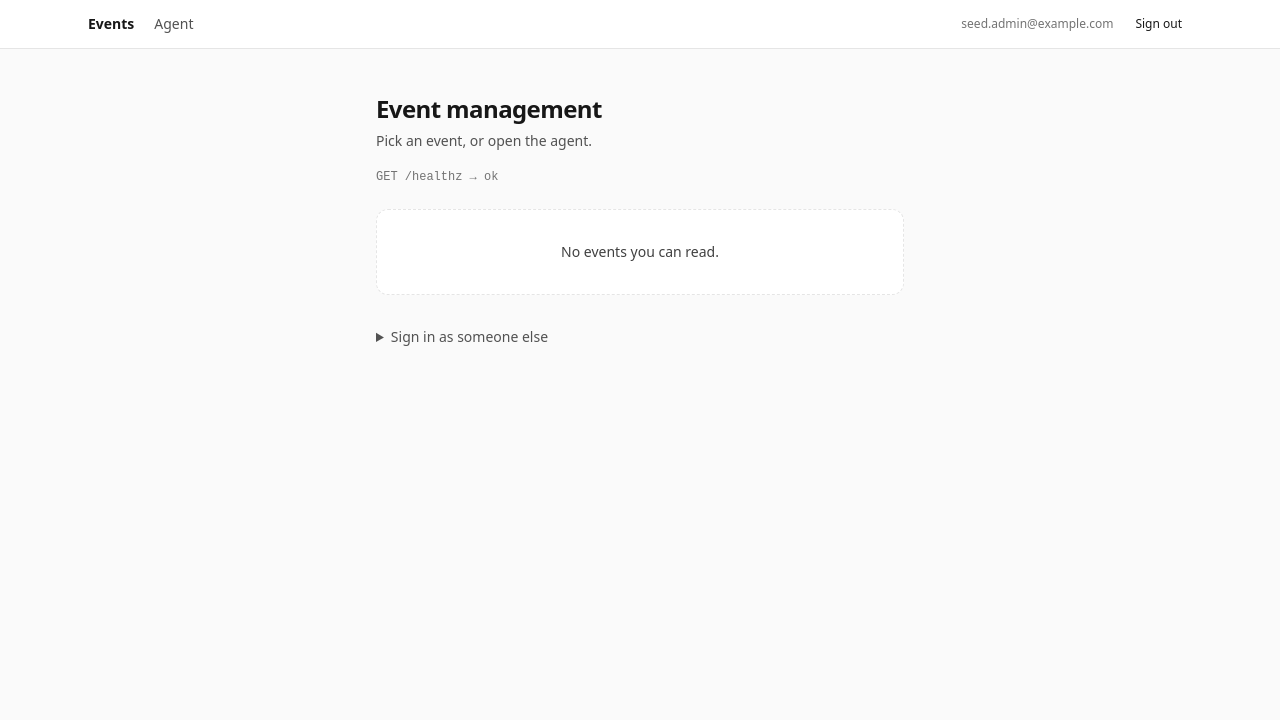
Scenario: auth session › signs out the current session before signing in as someone else
The width and height of the screenshot is (1280, 720).
Expected: the text "seed.admin@example.com" is shown, [961,16,1113,32]
Click the heading "Sign in as someone else" at [469, 336], box [391,327,548,346]
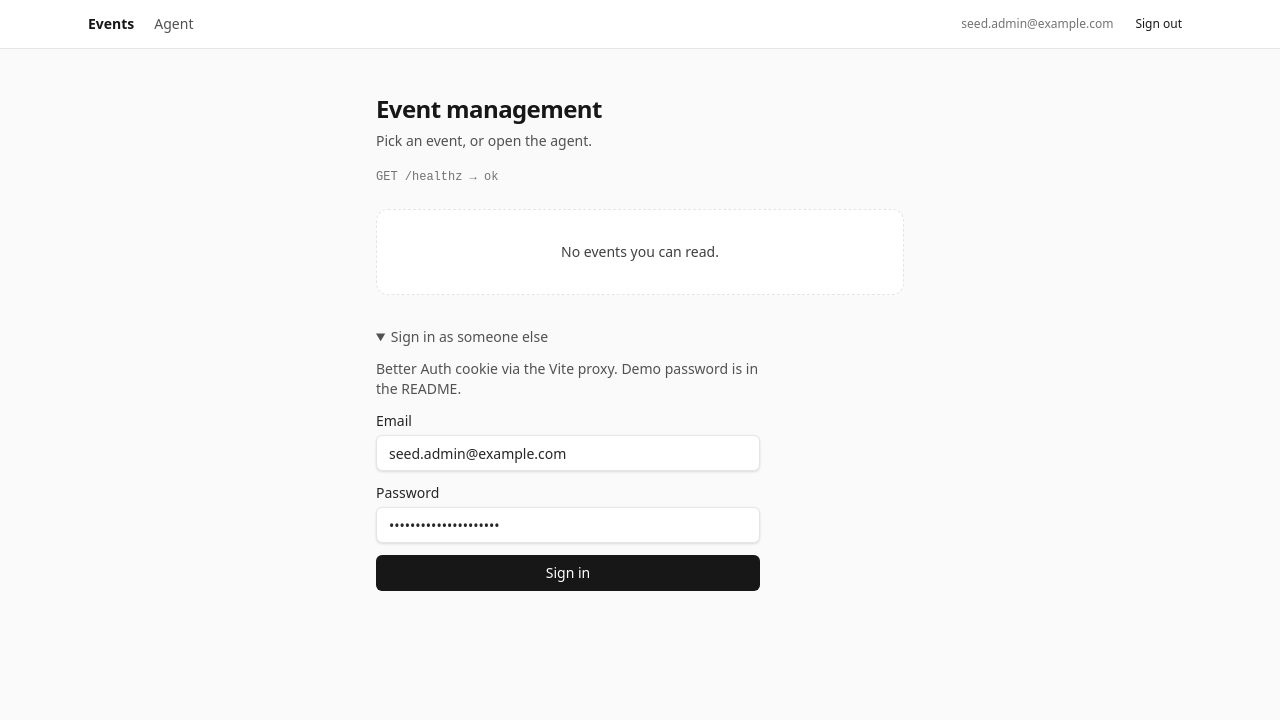
Replace the text in the field labelled "Email" with "seed.attendee@example.com" at [568, 453], box [376,435,760,471]
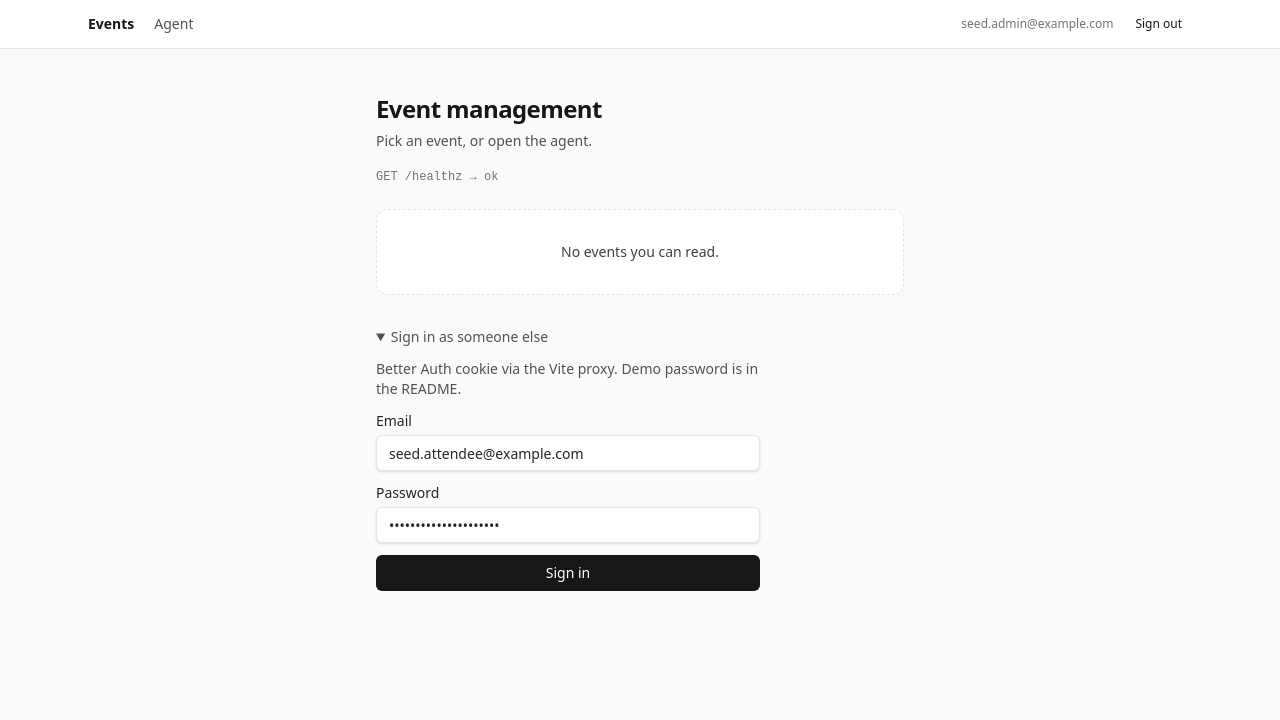
Click the button "Sign in" at [568, 573], box [376,555,760,591]
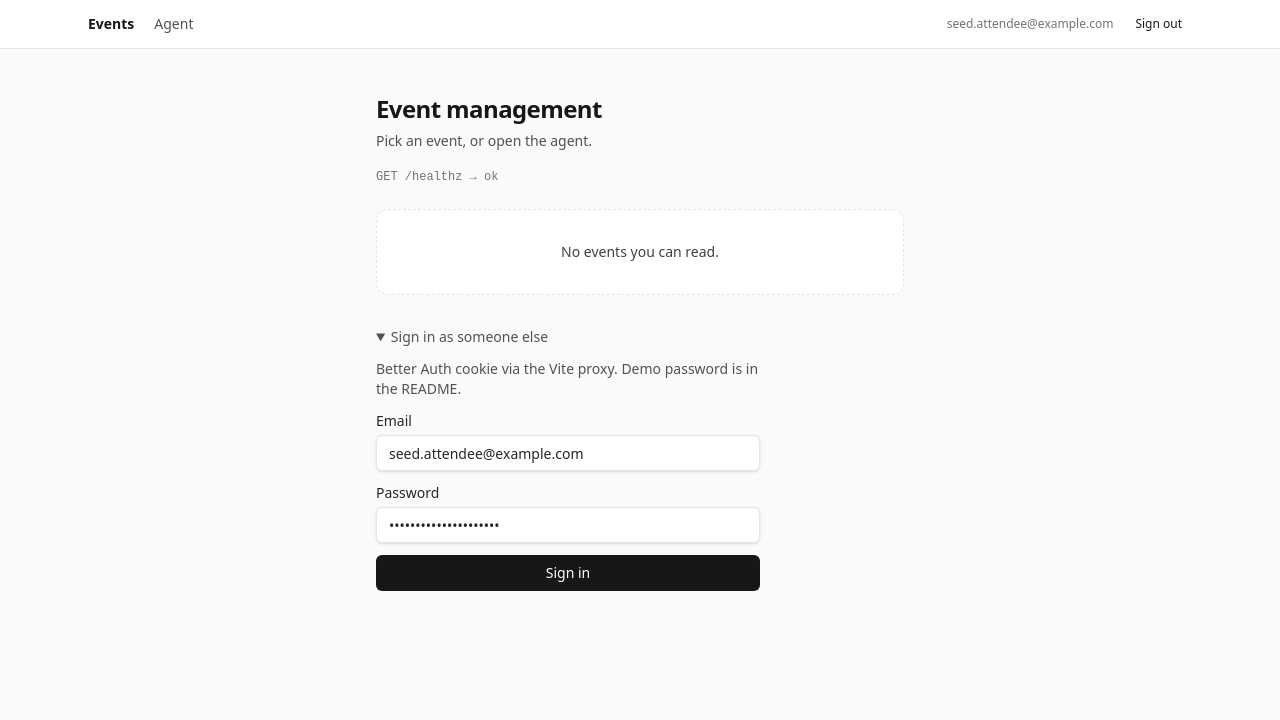
Expected: the button "Sign out" is shown, [1125,8,1192,40]
Expected: the text "seed.attendee@example.com" is shown, [947,16,1113,32]
Expected: the text "seed.admin@example.com" is gone
